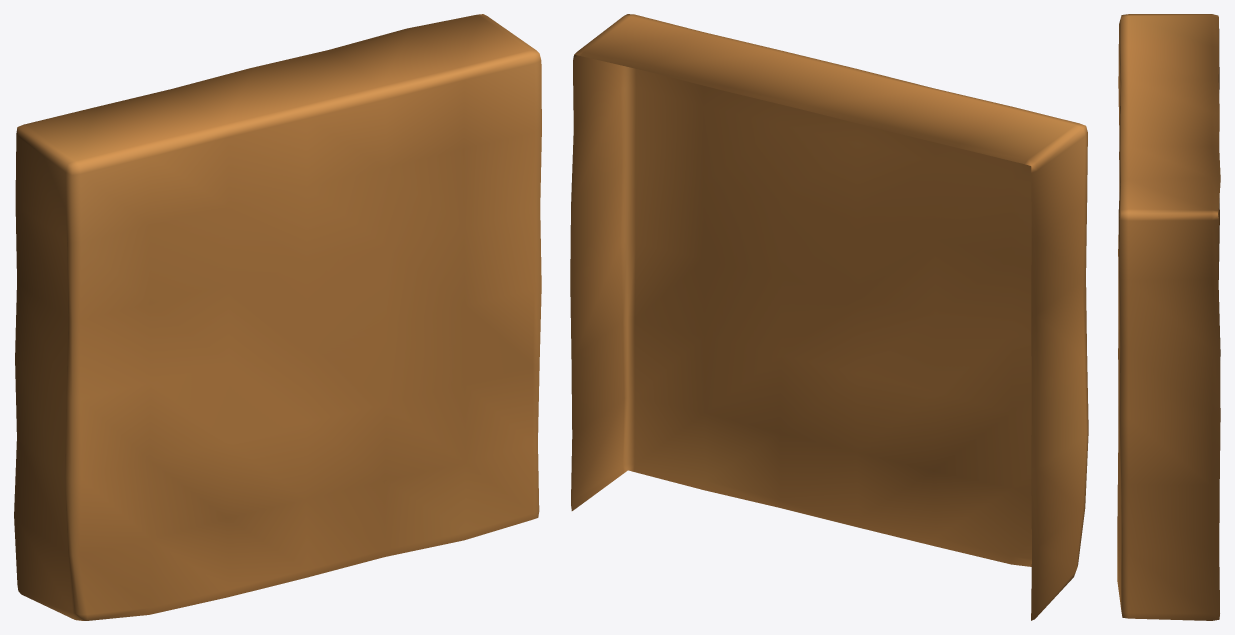
File: block_t2.glb
The picture shows the model from 3 angles, left to right: view 1: azimuth 30°, elevation 25°; view 2: azimuth 150°, elevation 25°; view 3: azimuth 270°, elevation 25°; orthographic projection. The views are drawn at different scales.
Parts seen in each view (by area): view 1: block_t2; view 2: block_t2; view 3: block_t2.
Part boxes in pixels (left/top/right/bottom): block_t2: left=14, top=14, right=541, bottom=620; block_t2: left=570, top=14, right=1088, bottom=620; block_t2: left=1117, top=14, right=1220, bottom=620.
Bounding box in the file's own units: 2.11 × 2.01 × 0.4582.
